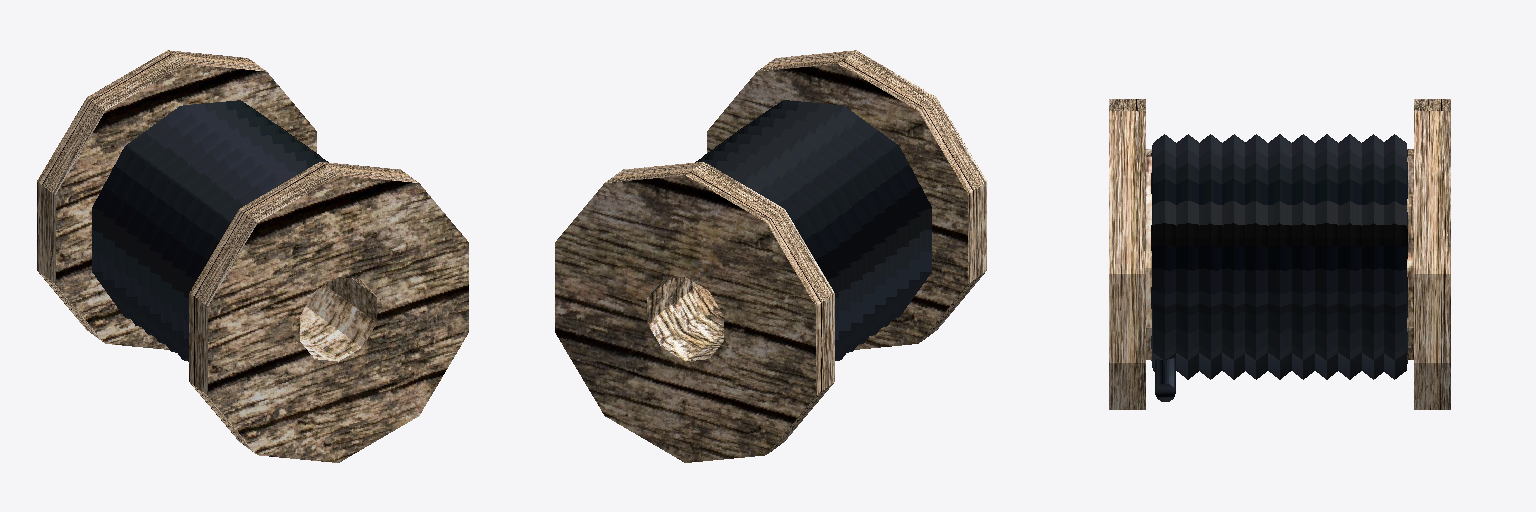
3 views of the same model, side by side, from view 1: azimuth 30°, elevation 25°; view 2: azimuth 150°, elevation 25°; view 3: azimuth 270°, elevation 25° (orthographic).
Visible parts, largest first — view 1: Torus.003; view 2: Torus.003; view 3: Torus.003.
Boxes of the visible parts, box(x1,y1,x2,y2) form: Torus.003: box(37, 50, 468, 462); Torus.003: box(555, 50, 986, 462); Torus.003: box(1109, 99, 1450, 409).
Bounding box in the file's own units: 2.87 × 2.96 × 3.19.
2 materials, 2 textured.